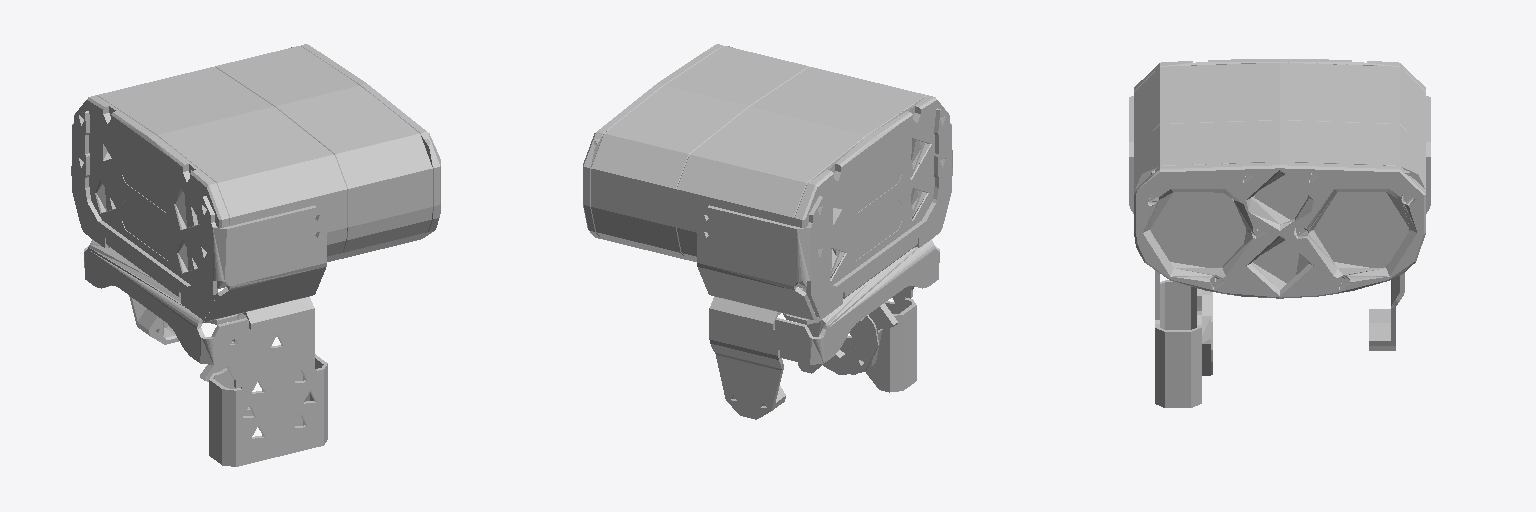
The model's file is neck_pitch_link_smooth.obj.
3 views of the same model, side by side, from view 1: azimuth 30°, elevation 25°; view 2: azimuth 150°, elevation 25°; view 3: azimuth 270°, elevation 25° (orthographic).
Parts seen in each view (by area): view 1: neck_pitch_link; view 2: neck_pitch_link; view 3: neck_pitch_link.
Part boxes in pixels (x1,y1,x2,y2): neck_pitch_link: (71, 44, 440, 466); neck_pitch_link: (583, 44, 952, 419); neck_pitch_link: (1129, 59, 1430, 407).
Bounding box in the file's own units: 0.1121 × 0.137 × 0.1291.